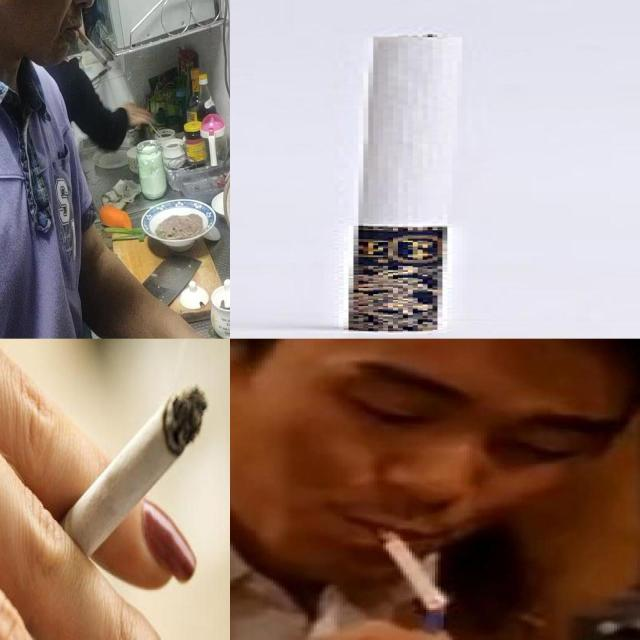smoking: (30, 382, 210, 596), (348, 31, 442, 330), (373, 524, 451, 610), (76, 26, 112, 70)
